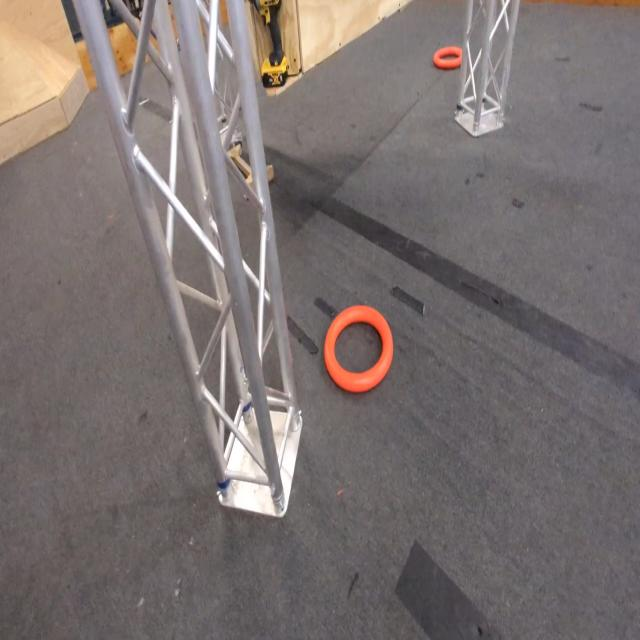note: (322, 307, 392, 393), (434, 44, 464, 70)
